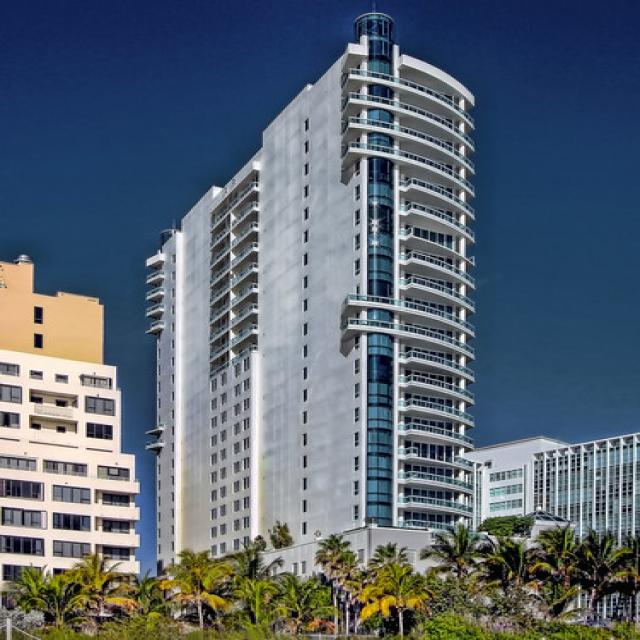Normal_building: (138, 6, 471, 597)
